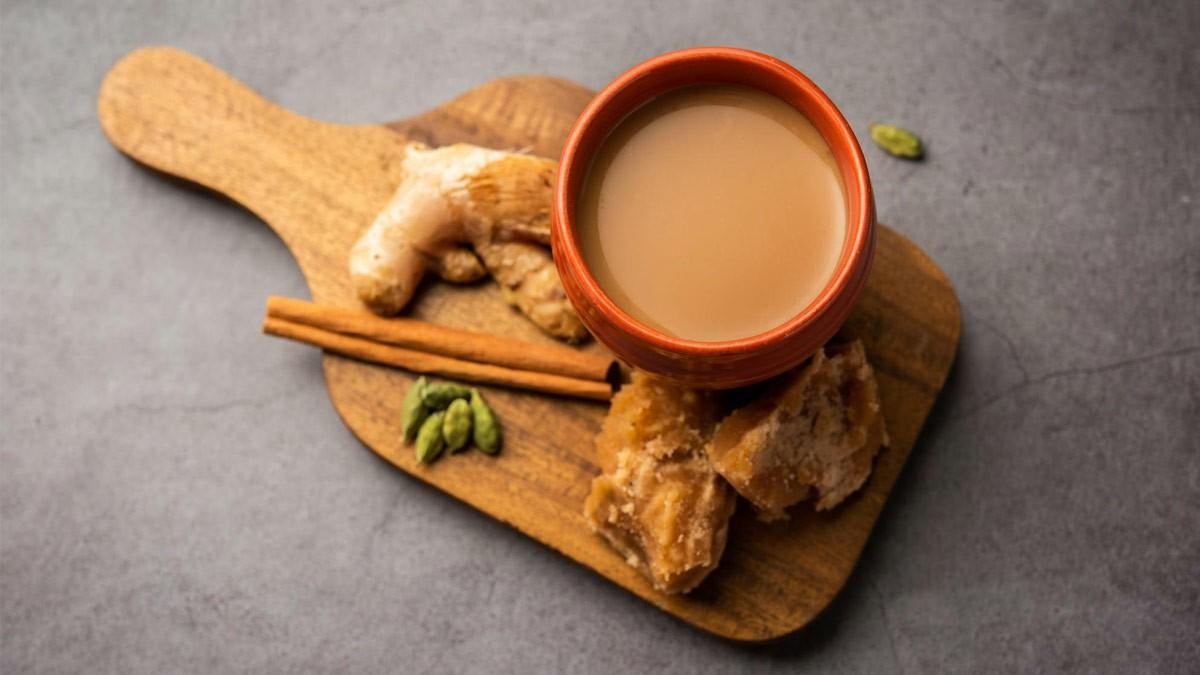Chai: (577, 83, 843, 340)
